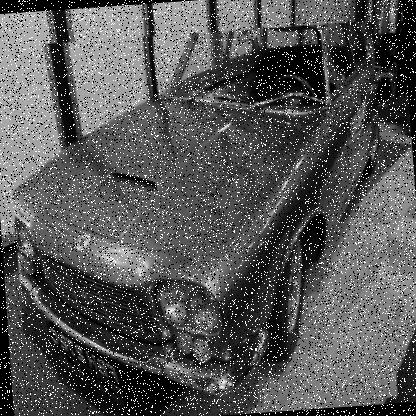Car: (2, 21, 398, 415)
